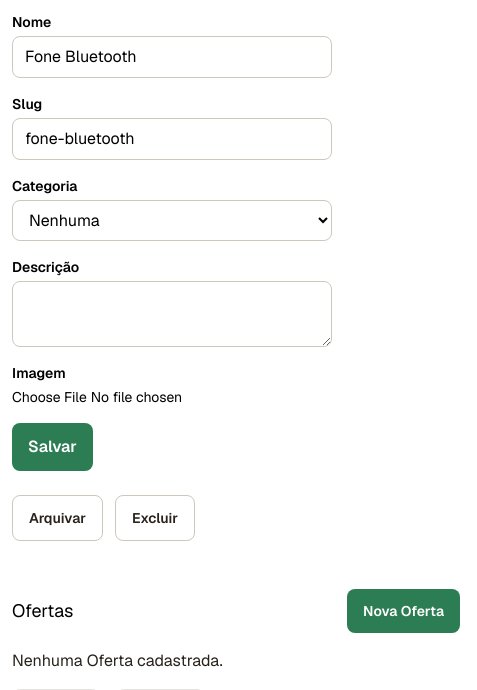
Scenario: ProductDetail › arquivar com sucesso: atualiza o estado e troca o botão para "Desarquivar"
Click the button "Arquivar". click: (58, 518)
box: [12,495,103,541]
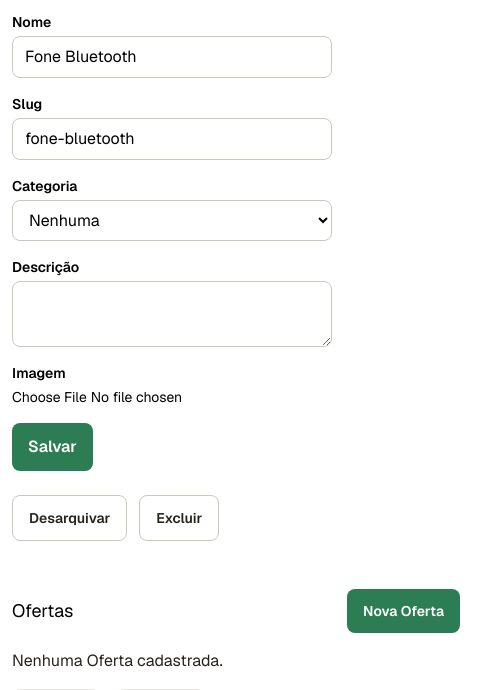
Check: the button "Desarquivar" is shown, box [12,495,127,541]
